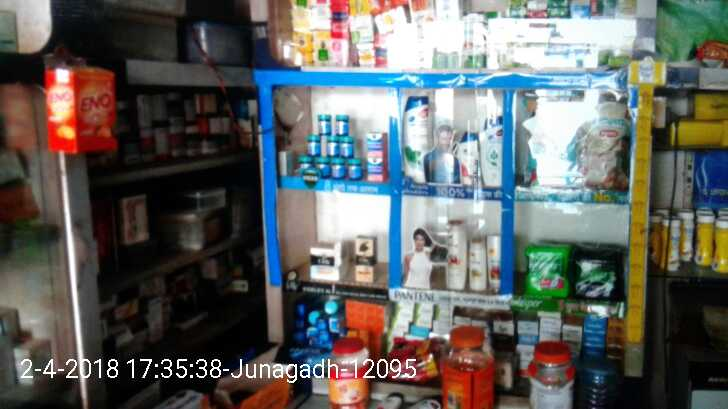vicks: (295, 112, 388, 182)
